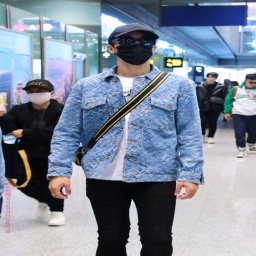correctlyWear: (107, 35, 156, 65), (23, 83, 55, 105)
noWear: (244, 76, 256, 88), (206, 74, 216, 83)
